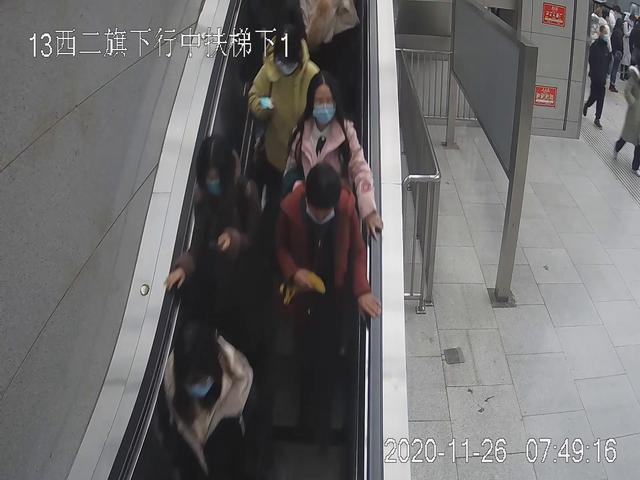person: (167, 132, 260, 470), (268, 166, 375, 453), (287, 70, 382, 375), (245, 30, 319, 307), (156, 330, 261, 480), (615, 57, 640, 173), (582, 25, 610, 127)
